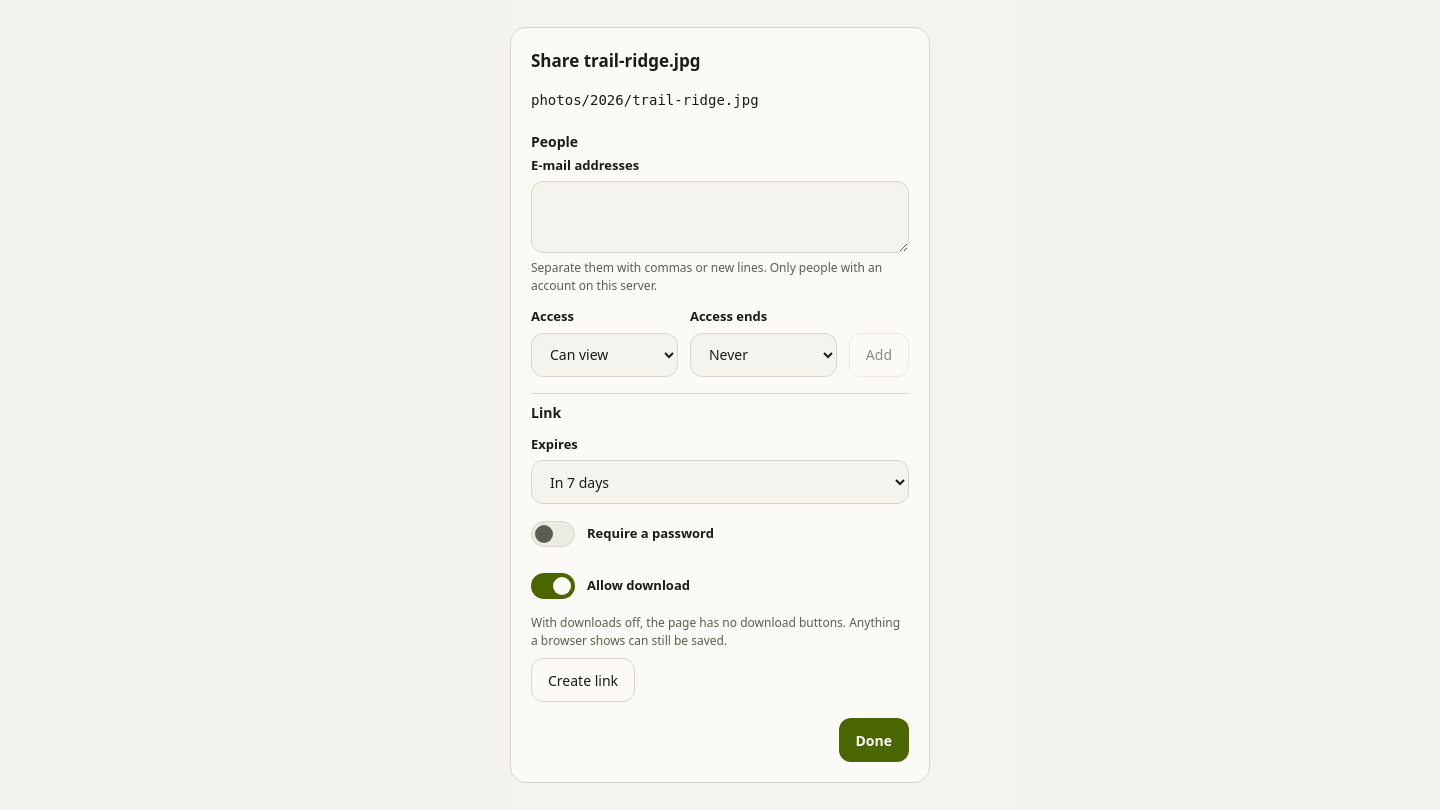
Test: password switch shows the field and sends it
Click the switch labelled "Require a password": (553, 534) top-left (531, 521), bottom-right (575, 547)
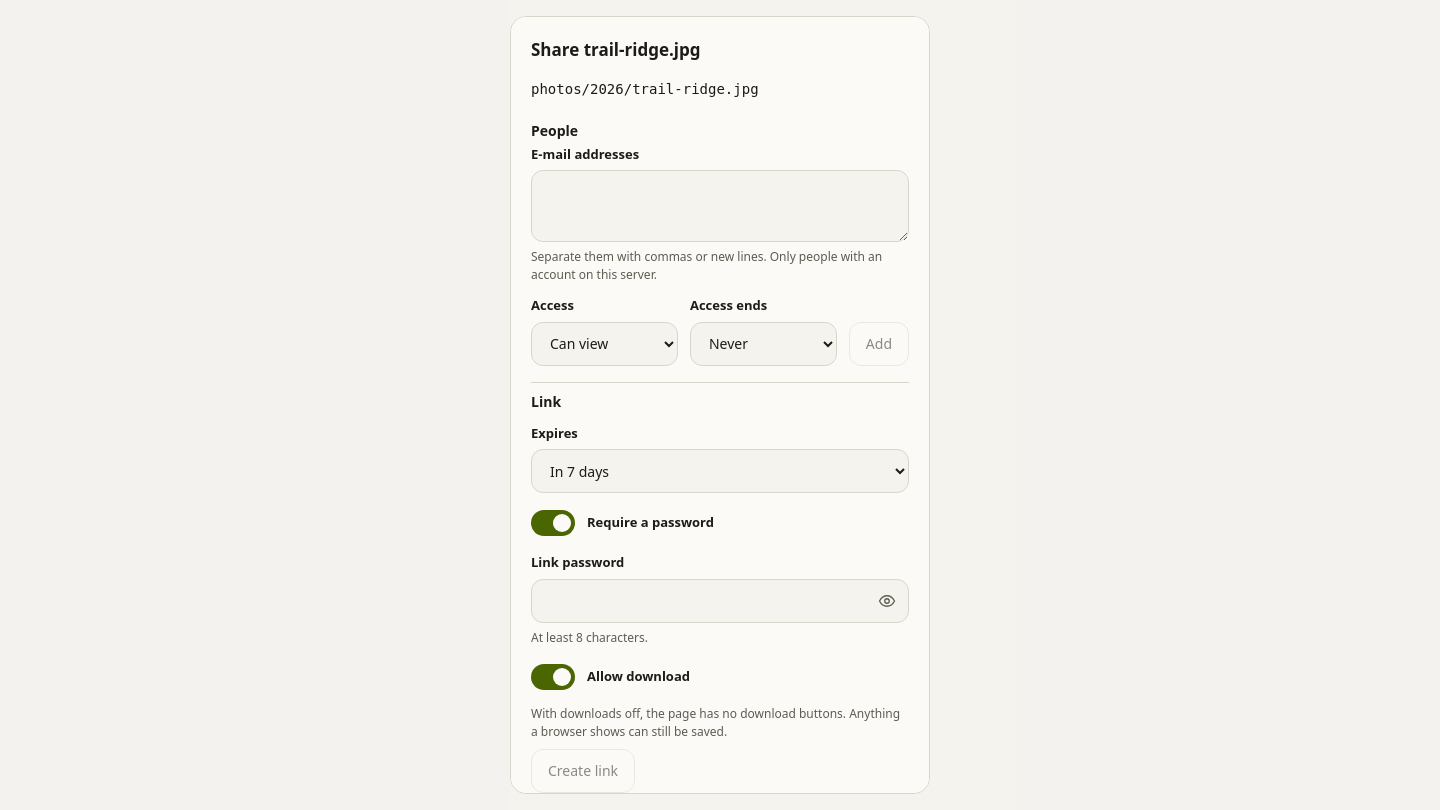
In the password field labelled "Link password": (720, 600) top-left (531, 578), bottom-right (909, 622), type "s3cret-pass"
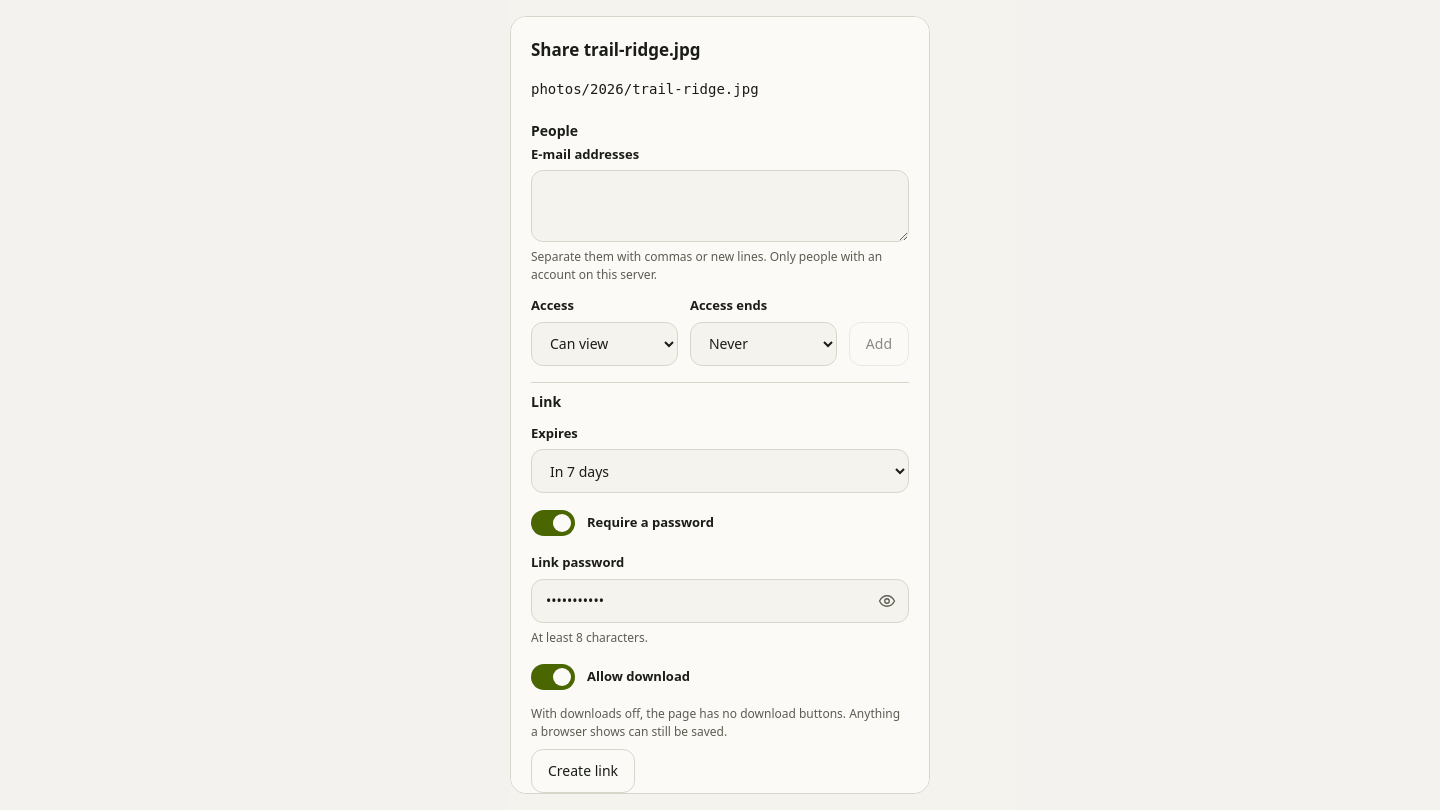
Click the button "Create link": (583, 770) top-left (531, 748), bottom-right (635, 792)
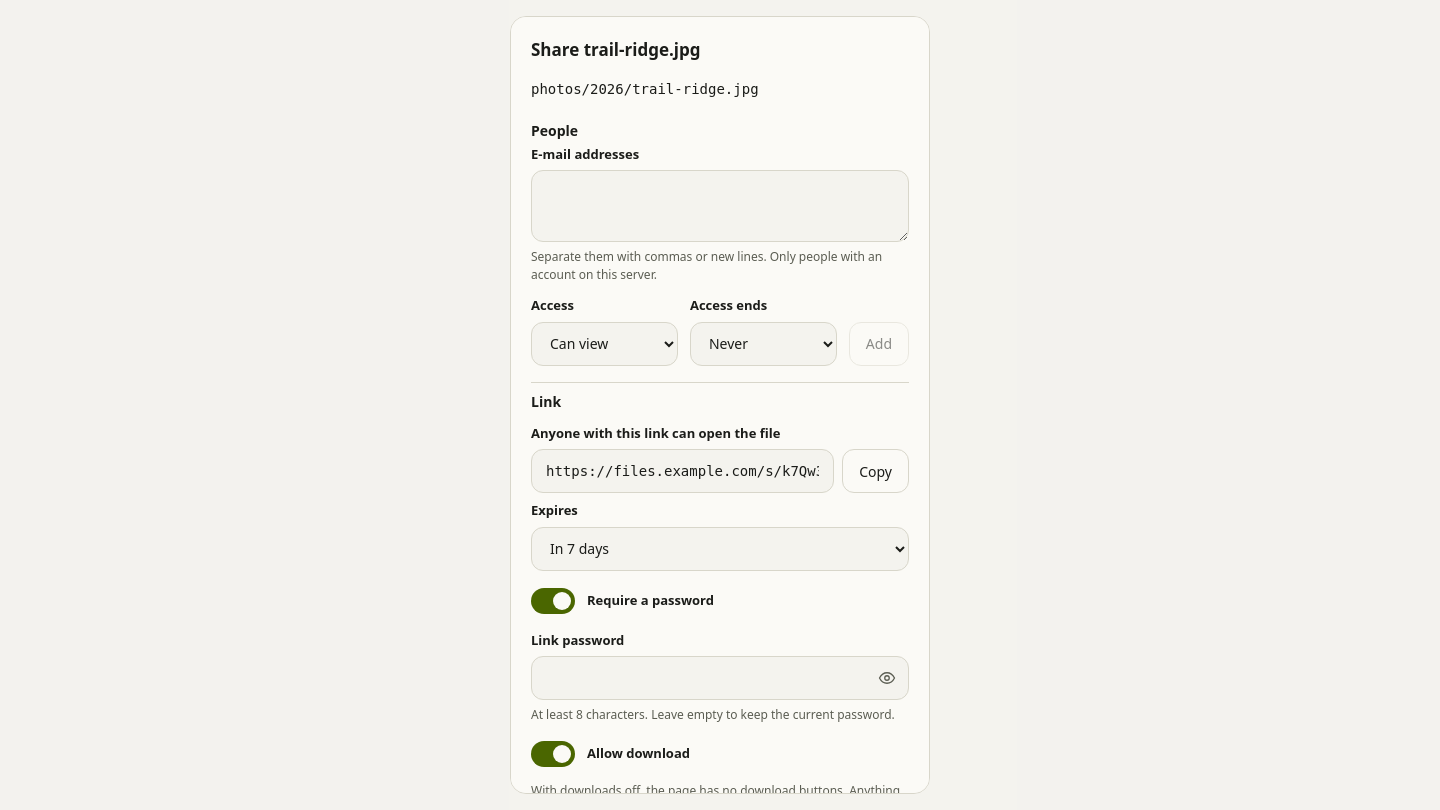
Now the field labelled "Anyone with this link can open the file" is shown, box top-left (531, 449), bottom-right (834, 493)
